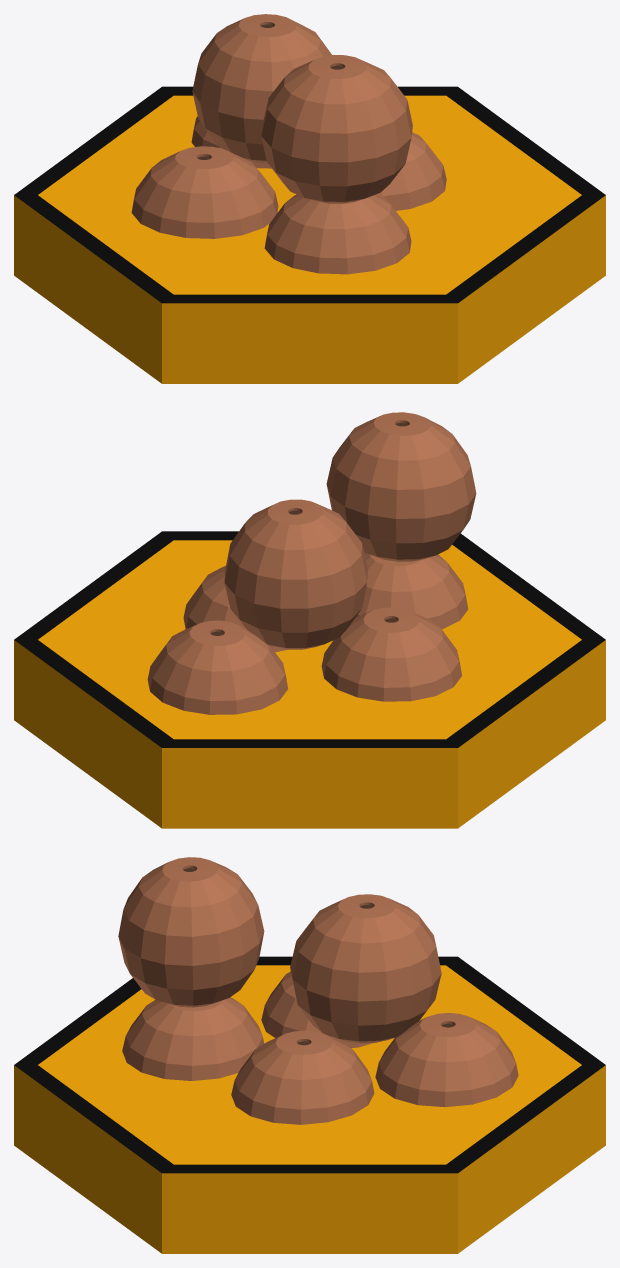
File: sand_tile_reward.glb
The picture shows the model from 3 angles, top to bottom: view 1: azimuth 30°, elevation 25°; view 2: azimuth 150°, elevation 25°; view 3: azimuth 270°, elevation 25°; orthographic projection.
Visible parts, largest first — view 1: SandTile-col, CoconutPile; view 2: SandTile-col, CoconutPile; view 3: SandTile-col, CoconutPile.
Part boxes in pixels (x1,y1,x2,y2): SandTile-col: [14, 86, 605, 383]; CoconutPile: [131, 14, 446, 274]; SandTile-col: [14, 531, 605, 828]; CoconutPile: [147, 412, 476, 714]; SandTile-col: [14, 956, 605, 1253]; CoconutPile: [118, 857, 518, 1124].
Bounding box in the file's own units: 1.73 × 0.973 × 2.
Materials: 3 (3 with a texture image).
